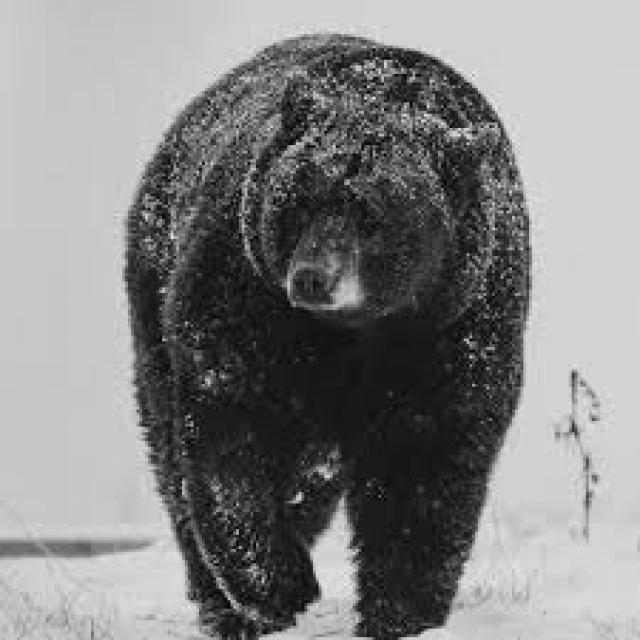Bear: (124, 31, 531, 640)
